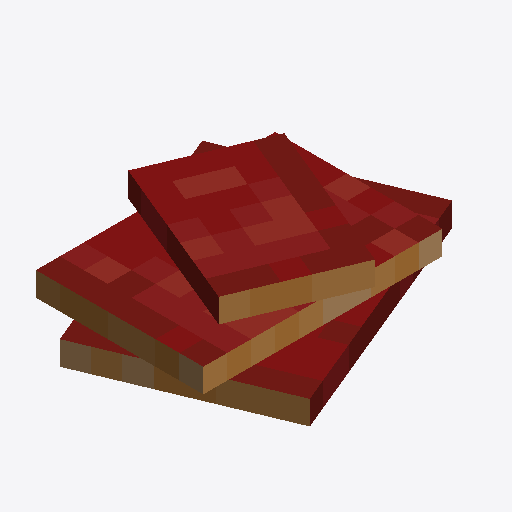
A Minecraft block model of 3 cuboids, rendered isometrically (azimuth 45°, elevation 35.3°) with the resource pack's own textures.
Visible parts, largest first — book2, book3, book1.
Part boxes in pixels (bbox=[...]): book2: bbox=[36, 132, 441, 393]; book3: bbox=[128, 133, 374, 323]; book1: bbox=[60, 141, 451, 425].
Bounding box in the file's own units: 13.22 × 3 × 11.6.